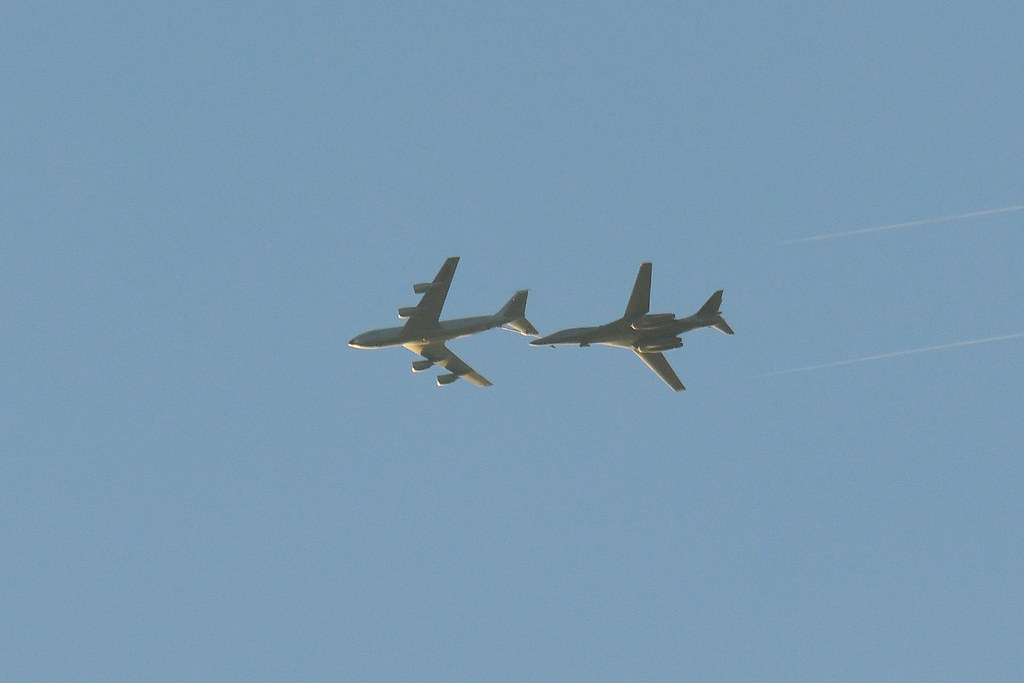airplane: (528, 262, 736, 393), (347, 256, 544, 388)
